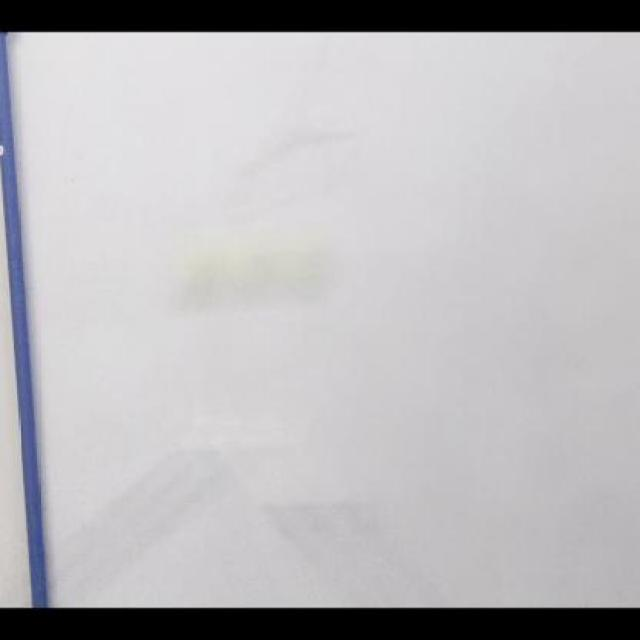baseball: (175, 235, 330, 310)
